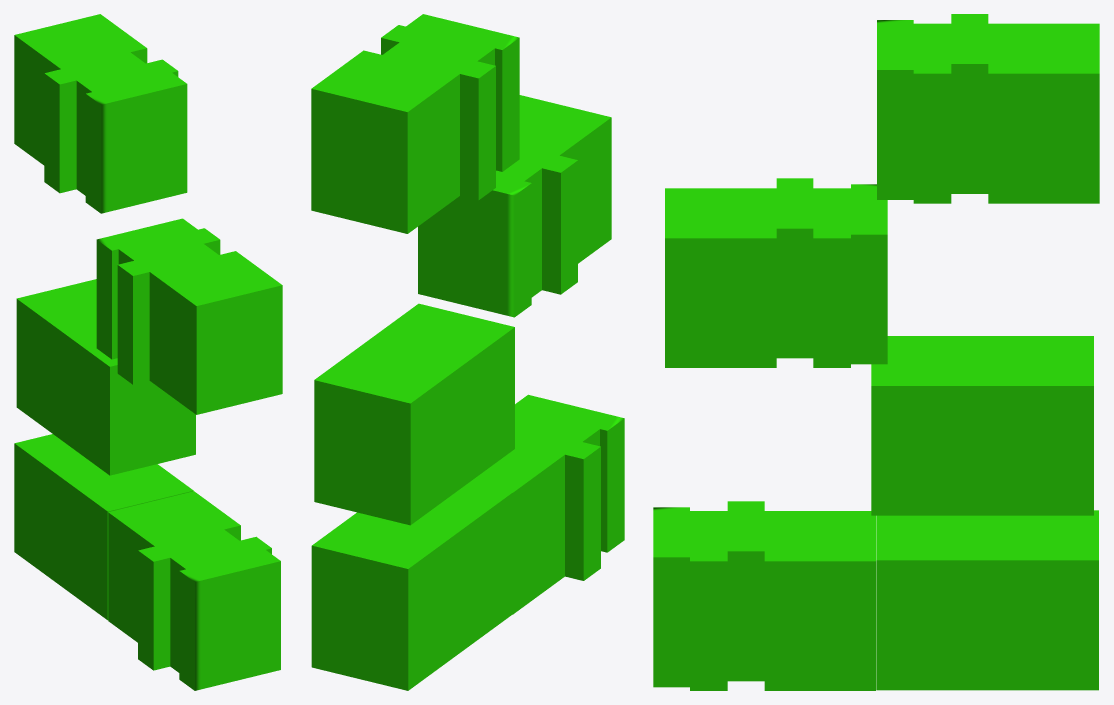
Rendered from Office_Cupboard_01_Folder_04_Lod.fbx.
3 renders of one model, left to right at view 1: azimuth 30°, elevation 25°; view 2: azimuth 150°, elevation 25°; view 3: azimuth 270°, elevation 25°, orthographic. The views are drawn at different scales.
Parts seen in each view (by area): view 1: Office_Cupboard_01_Folder_04_Lod; view 2: Office_Cupboard_01_Folder_04_Lod; view 3: Office_Cupboard_01_Folder_04_Lod.
Boxes of the visible parts, left/top/right/bottom form: Office_Cupboard_01_Folder_04_Lod: left=14, top=14, right=282, bottom=690; Office_Cupboard_01_Folder_04_Lod: left=311, top=14, right=624, bottom=690; Office_Cupboard_01_Folder_04_Lod: left=653, top=14, right=1099, bottom=690.
Bounding box in the file's own units: 31.96 × 154 × 101.
